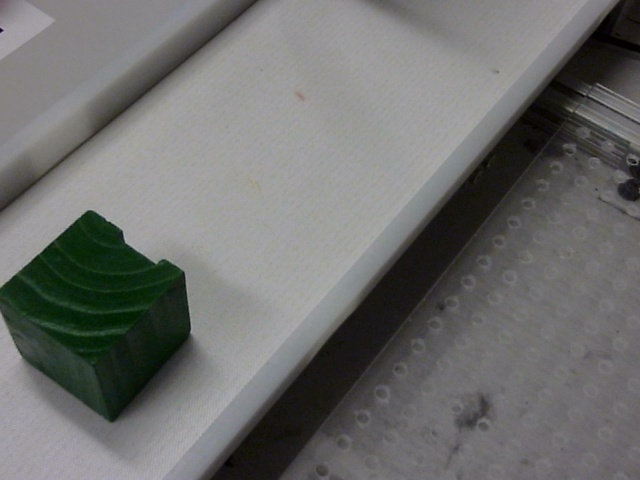GreenBlock: (1, 208, 192, 422)
